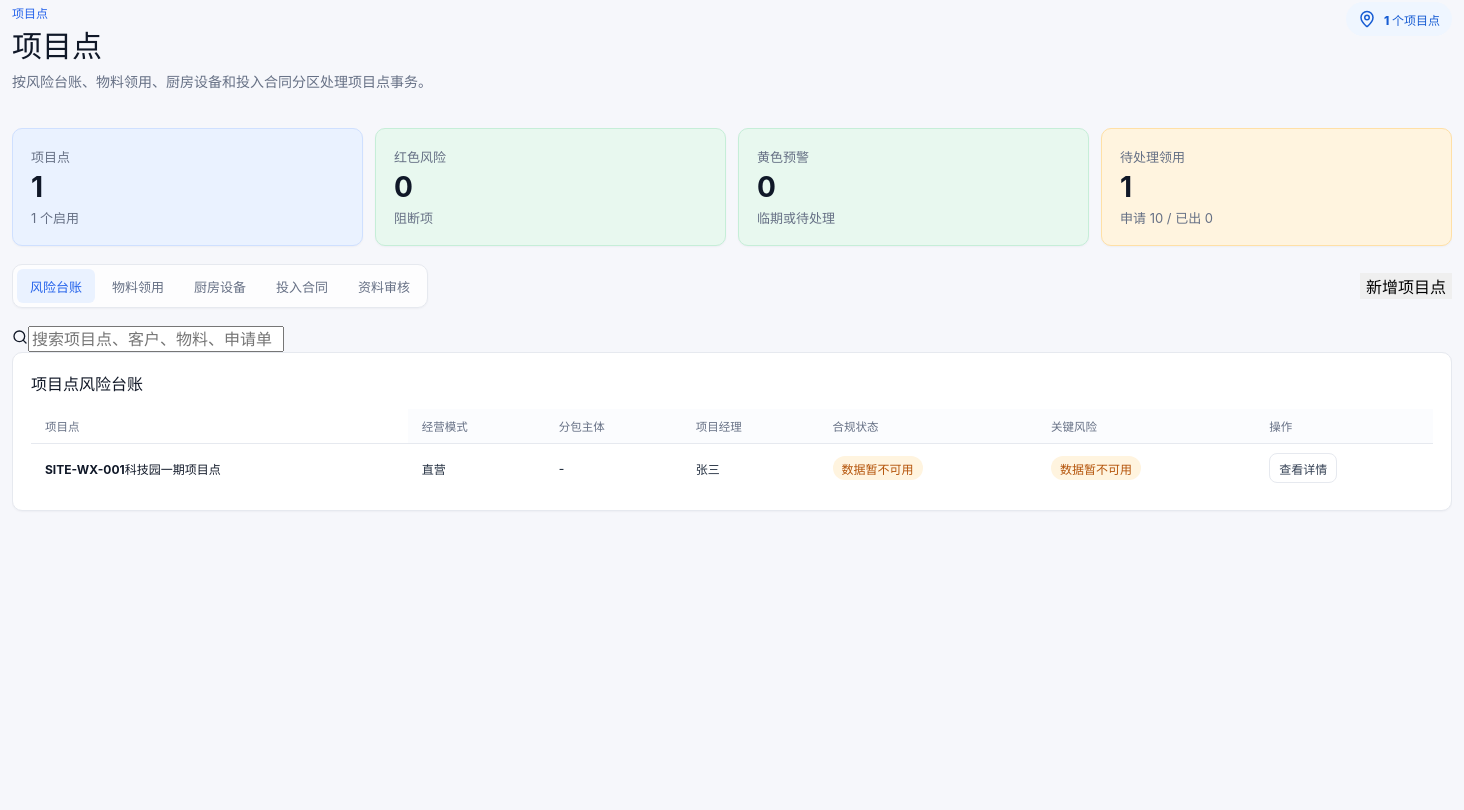
Scenario: UI subtractive refactor rendered surfaces › renders project-site headquarters as one active task at a time
Expected: the heading "项目点风险台账" is shown, x1=31 y1=372 x2=143 y2=396
Expected: the heading "领用申请" is not shown
Click the tab "物料领用". click: (138, 286)
box: x1=99 y1=270 x2=177 y2=304
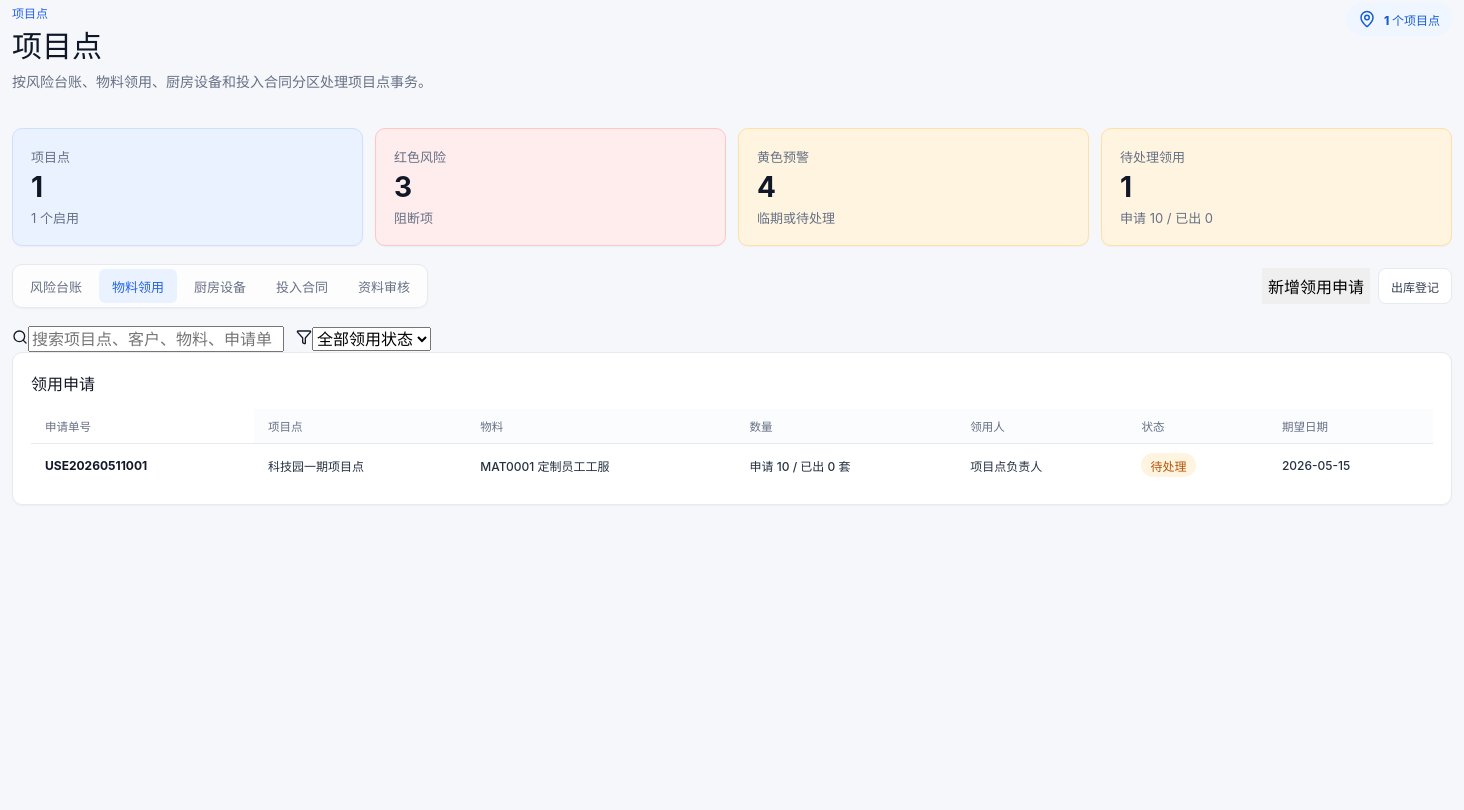
Expected: the heading "领用申请" is shown, x1=31 y1=372 x2=95 y2=396
Expected: the heading "项目点风险台账" is gone
Click the tab "厨房设备". click: (220, 286)
box: x1=181 y1=270 x2=259 y2=304
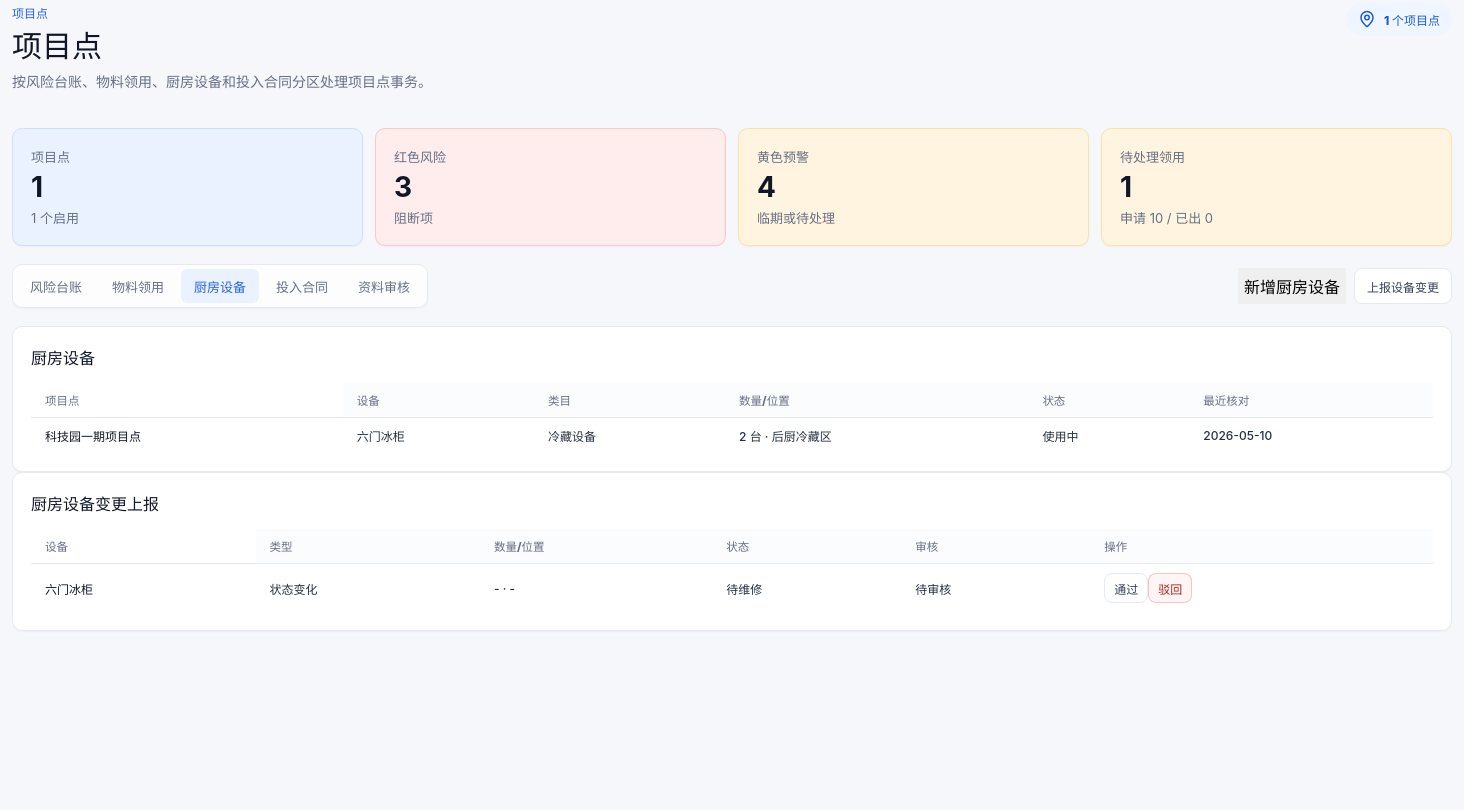
Expected: the heading "厨房设备" is shown, x1=31 y1=346 x2=95 y2=370
Expected: the button "领用申请" is gone
